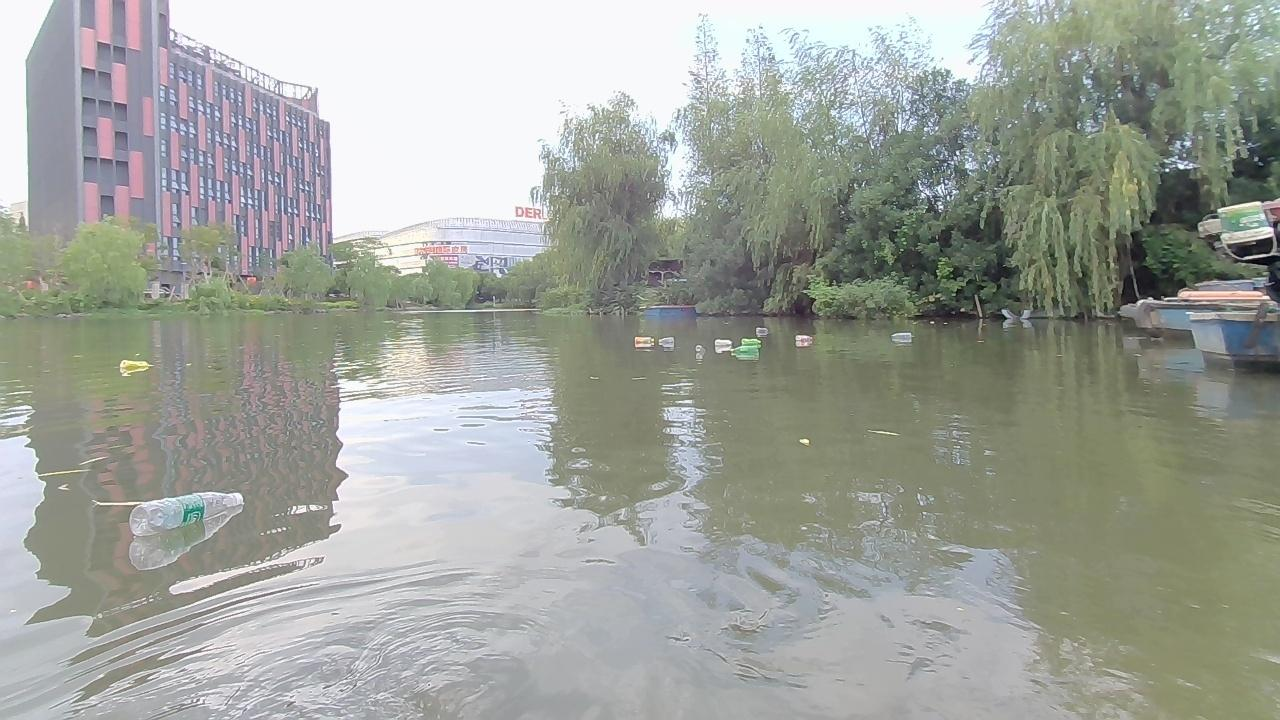bottle: (125, 492, 246, 537), (117, 357, 158, 376), (889, 327, 916, 343), (791, 332, 817, 346), (654, 335, 676, 351), (631, 333, 652, 347), (741, 333, 762, 347), (691, 343, 706, 358), (710, 337, 731, 347), (755, 322, 771, 334), (738, 346, 761, 353)
